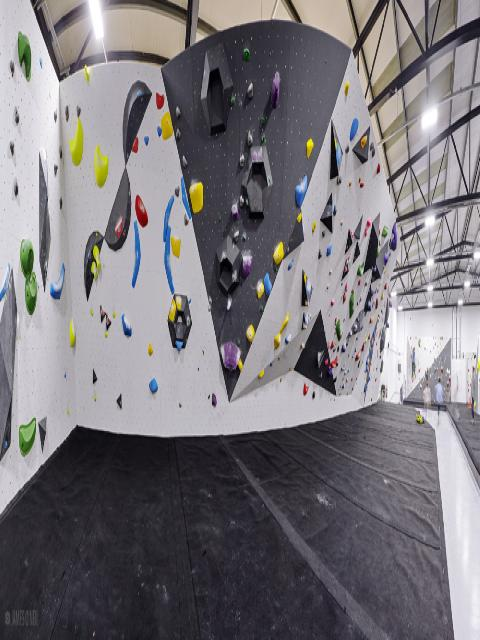crimp: (114, 216, 123, 238)
jug: (121, 314, 132, 336), (93, 245, 100, 269), (91, 261, 97, 279)
ledge: (19, 420, 36, 455), (24, 272, 37, 314)
sidepull: (164, 226, 174, 294), (70, 116, 83, 165), (132, 220, 140, 286)
sloper: (18, 31, 31, 80), (94, 145, 108, 186), (50, 263, 64, 299), (20, 239, 33, 276), (135, 195, 147, 226)
volume: (39, 153, 50, 288)
